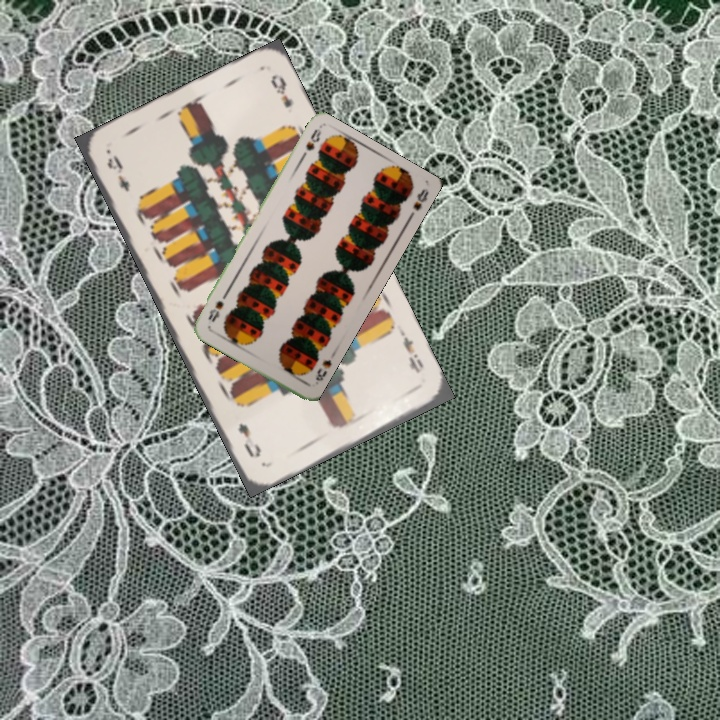E9: (396, 328, 426, 376), (102, 151, 132, 195)
S8: (296, 125, 324, 163), (311, 355, 334, 387)
